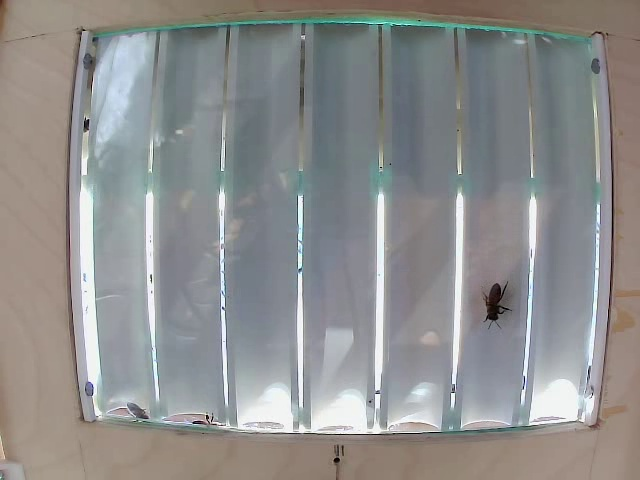bee: (469, 276, 512, 331)
